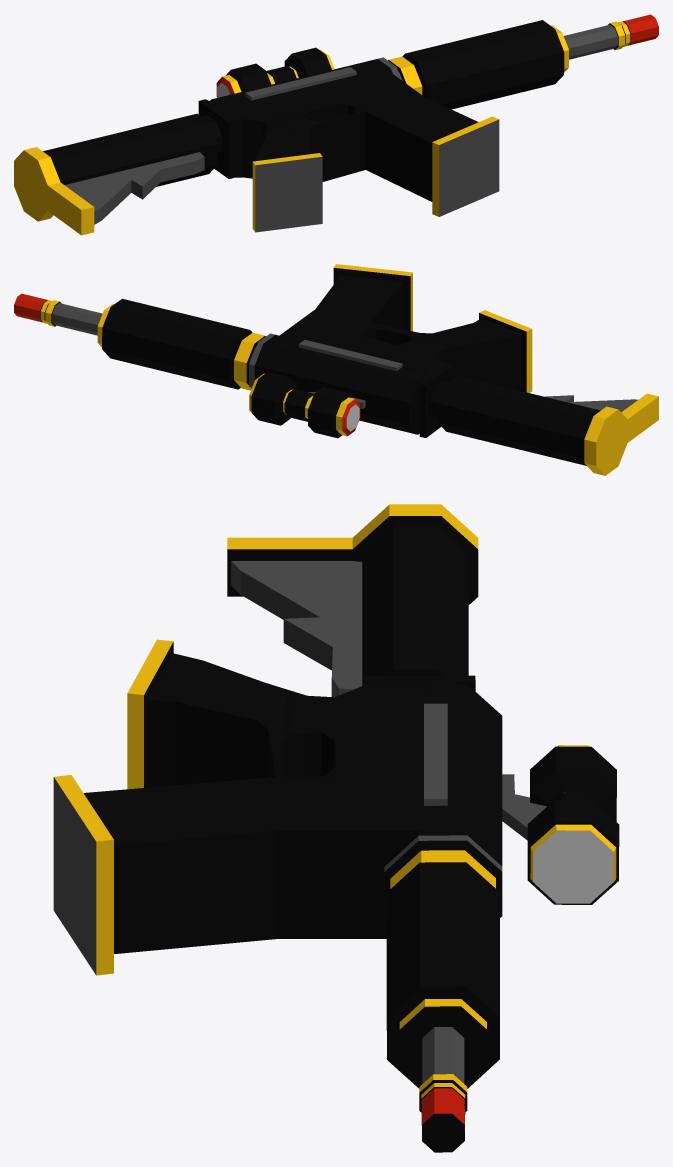
The model's file is Gun.obj.
3 views of the same model, one above another, from view 1: azimuth 30°, elevation 25°; view 2: azimuth 150°, elevation 25°; view 3: azimuth 270°, elevation 25° (orthographic). The views are drawn at different scales.
Parts seen in each view (by area): view 1: Cylinder; view 2: Cylinder; view 3: Cylinder.
Boxes of the visible parts, box(x1,y1,x2,y2) form: Cylinder: box(14, 14, 658, 235); Cylinder: box(14, 264, 658, 475); Cylinder: box(53, 504, 619, 1152).
Bounding box in the file's own units: 11.77 × 1.29 × 4.92.
